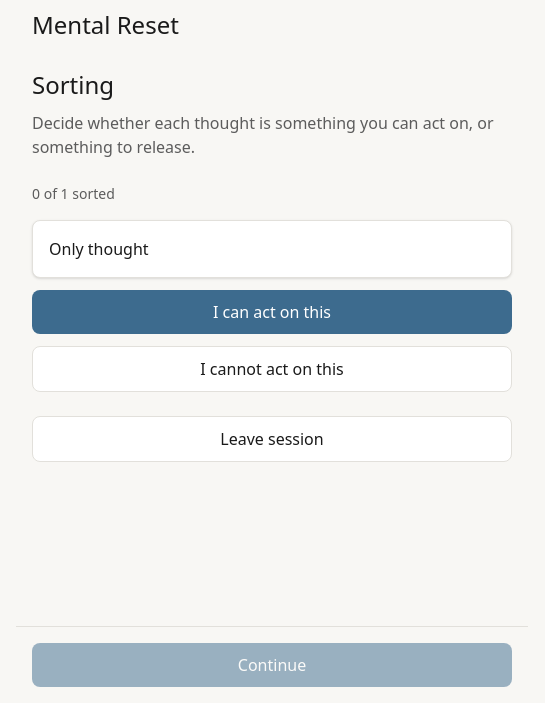
Test: Sorting screen › uses the same one-at-a-time UI for a single thought
Expected: the text "Only thought" is shown, [49,238,149,260]
Expected: the text "0 of 1 sorted" is shown, [32,184,115,203]
Click the button "I can act on this".
click(272, 312)  # box [32,290,512,334]
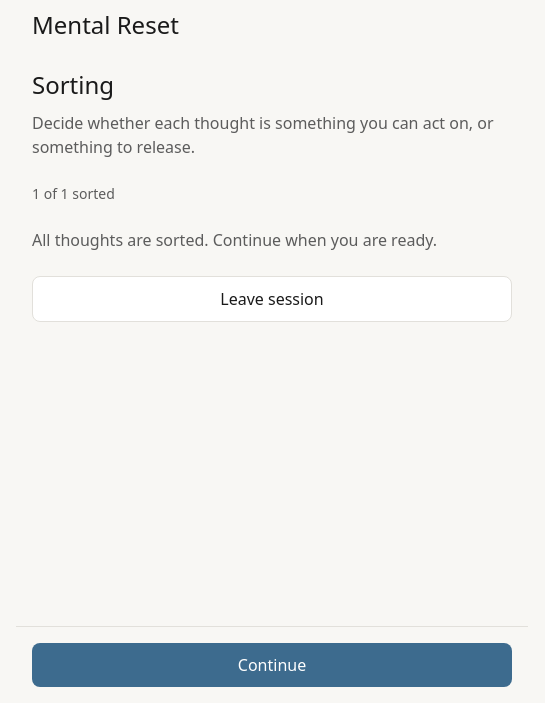
Expected: the text "All thoughts are sorted. Continue when you are ready." is shown, [32,229,437,251]
Expected: the button "Continue" is enabled, [32,643,512,687]
